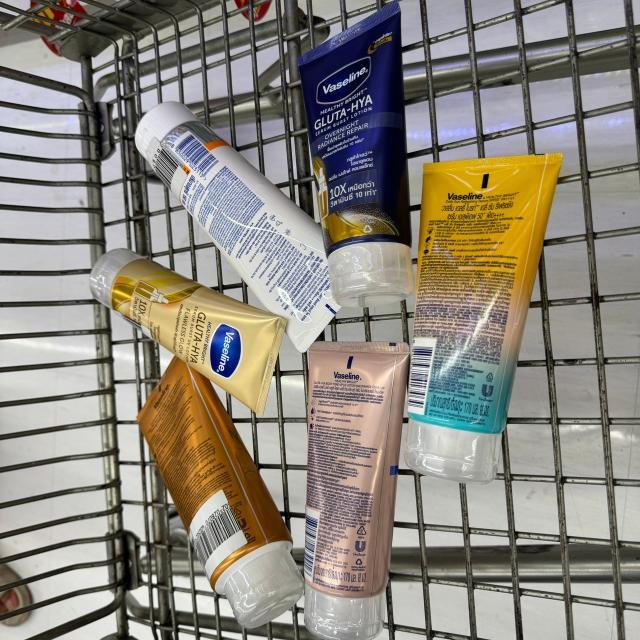Squeeze Tube: (109, 355, 305, 630), (402, 144, 558, 483), (81, 229, 293, 423), (290, 10, 424, 300), (292, 337, 409, 640)
